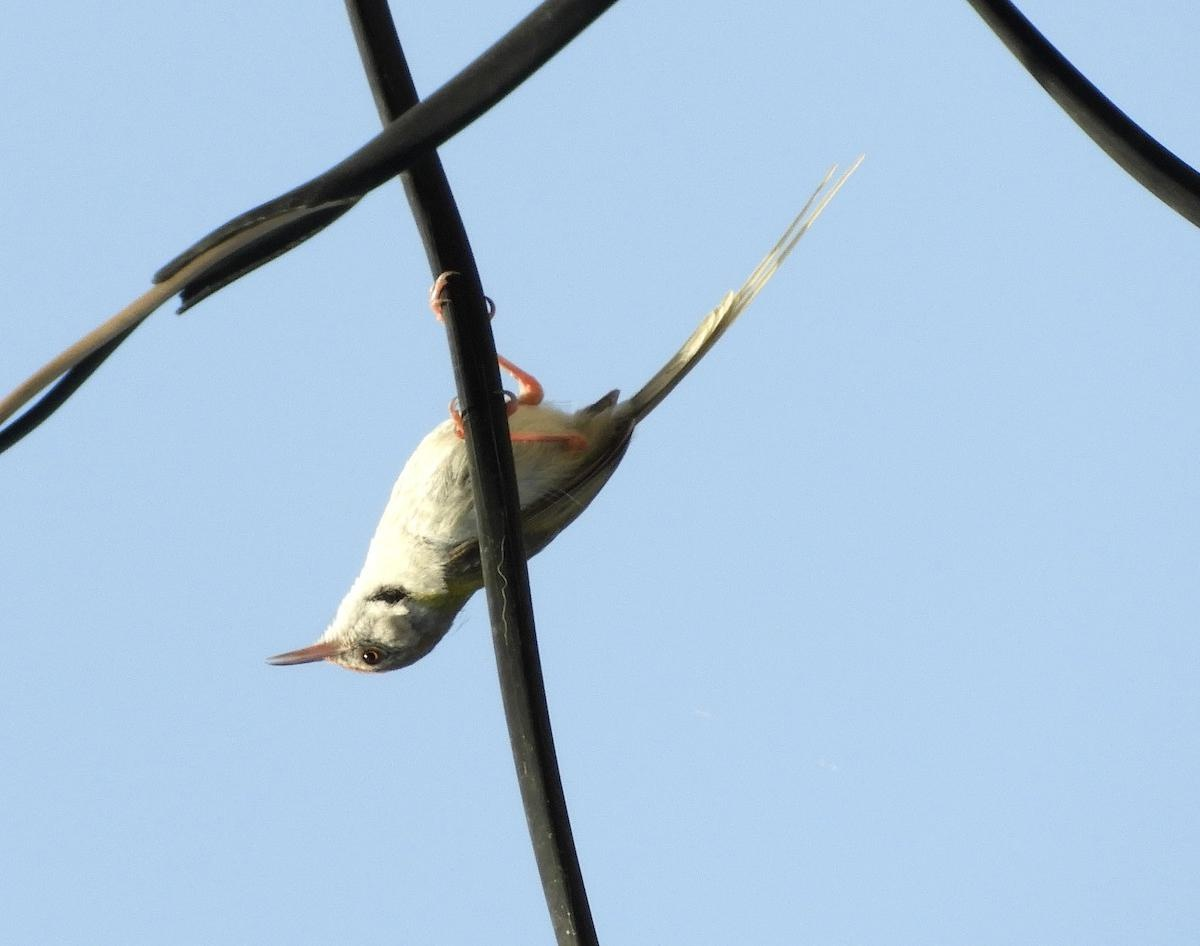tailorbird: (252, 138, 863, 716)
